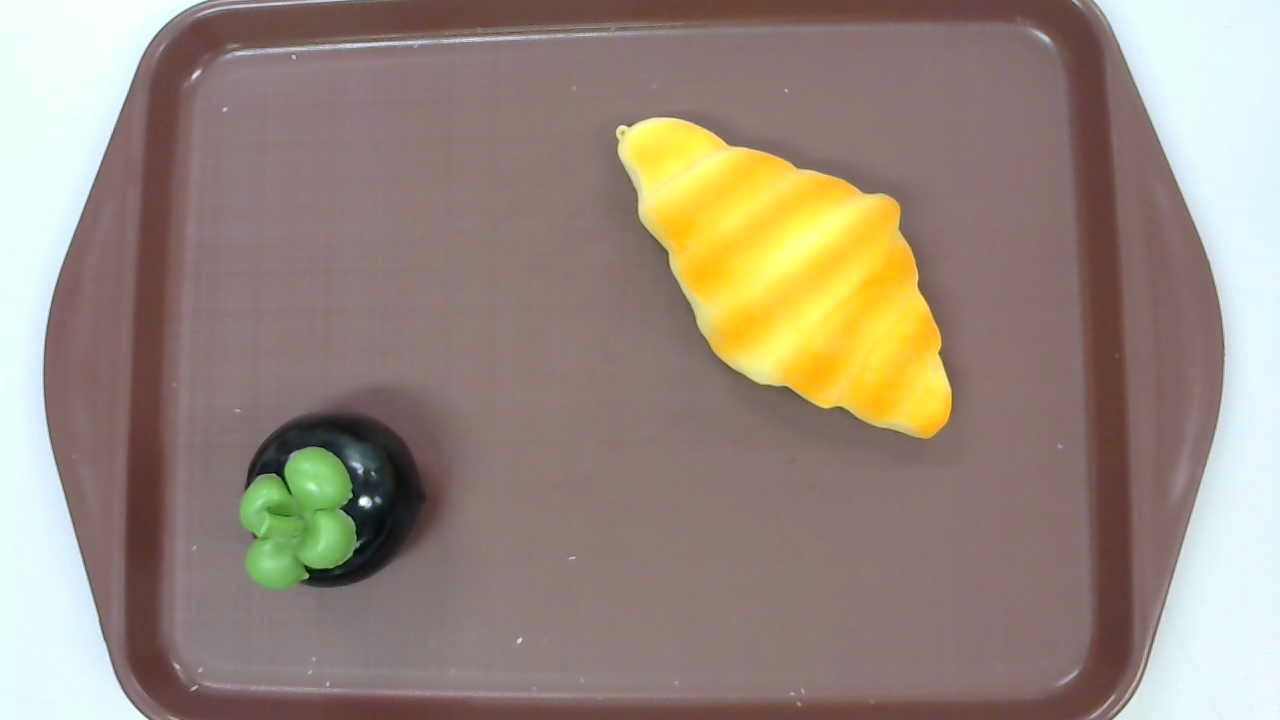croissant: (615, 115, 953, 439)
mangosteen: (238, 410, 424, 591)
